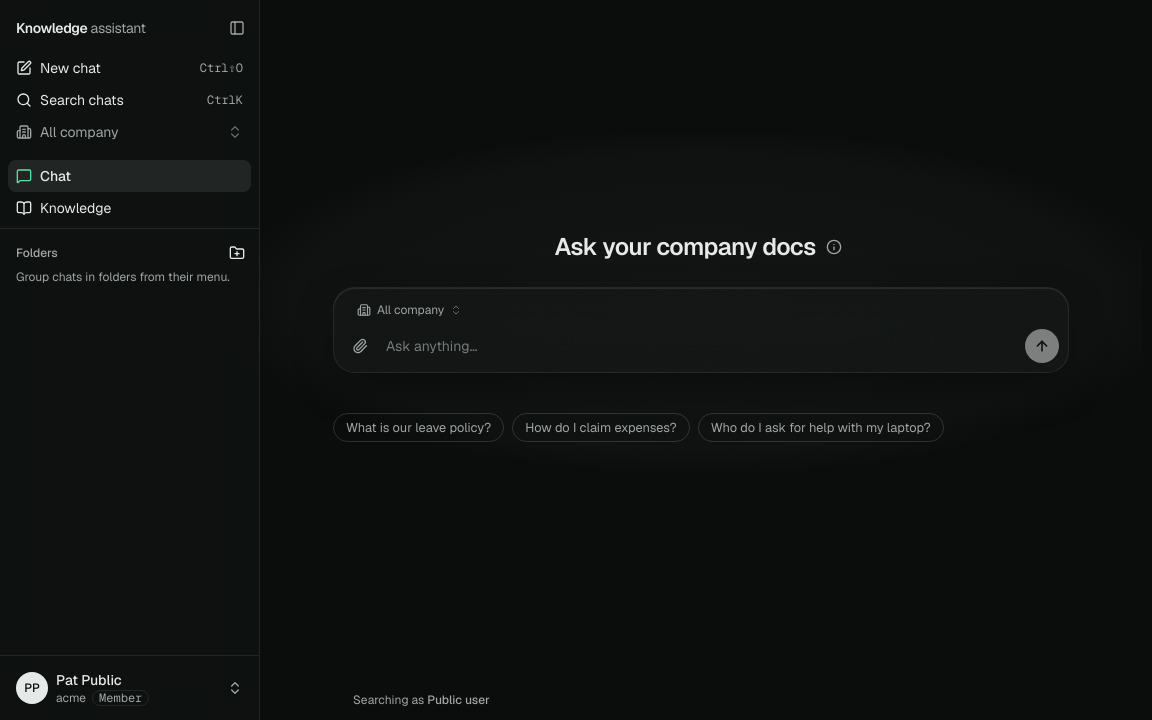
the chat › mentions the Outline wiki only where it's connected
Step 1. Click the button named "How answers work" → (834, 247), box [820,233,848,261]
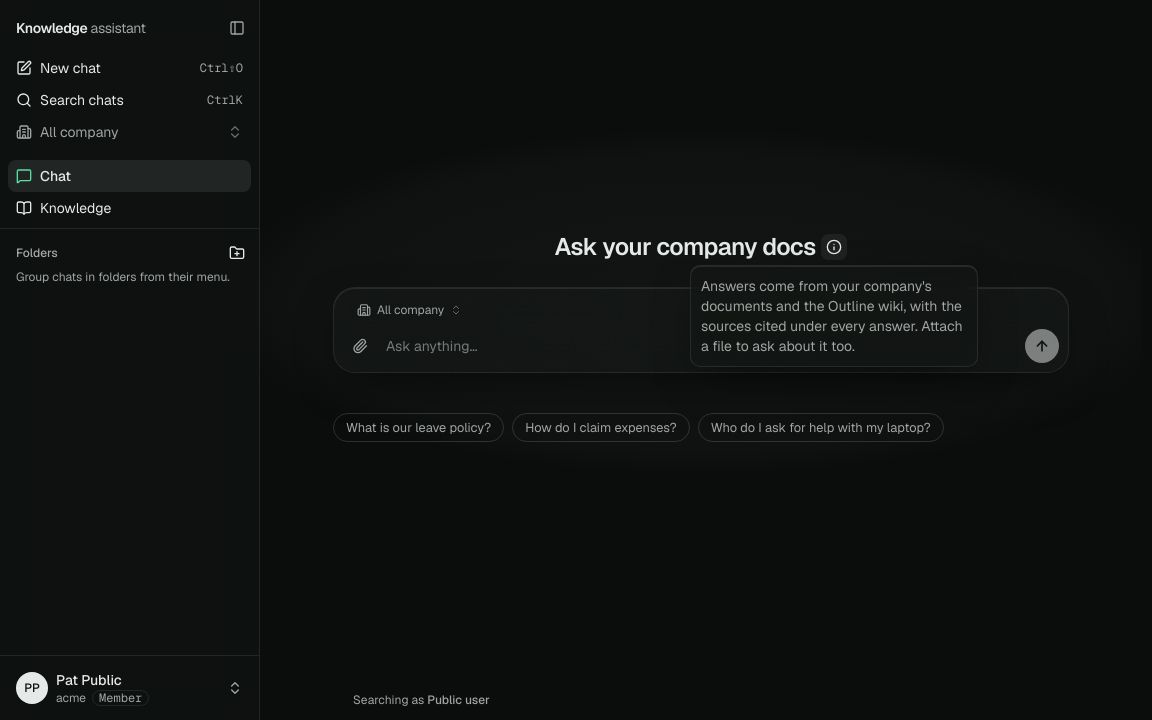
Expected: the button "What is our leave policy?" is shown, [333,413,504,442]
Expected: the text "and the Outline wiki" is shown, [701,277,932,315]
